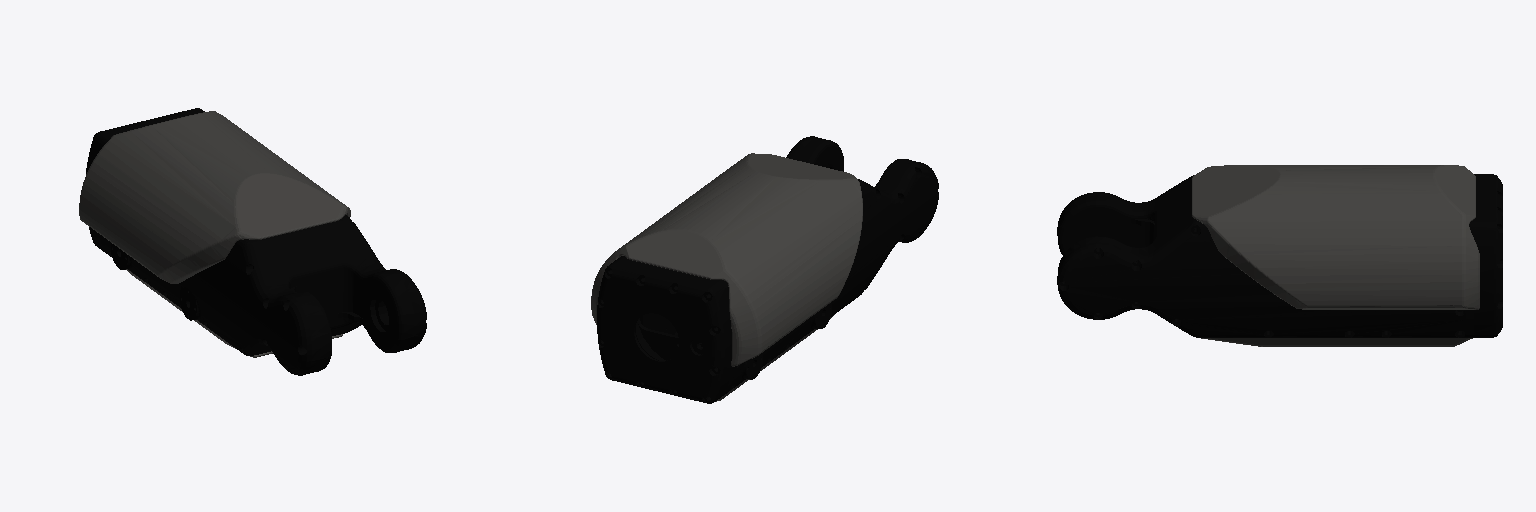
File: lowerArm_right.obj
The picture shows the model from 3 angles: view 1: azimuth 30°, elevation 25°; view 2: azimuth 150°, elevation 25°; view 3: azimuth 270°, elevation 25°; orthographic projection.
Visible parts, largest first — view 1: wrist_right_float1.001, wrist_right_wrist_right.000; view 2: wrist_right_float1.001, wrist_right_wrist_right.000; view 3: wrist_right_float1.001, wrist_right_wrist_right.000, wrist_right_float2.001.
Boxes of the visible parts, box(x1,y1,x2,y2) form: wrist_right_float1.001: box(79, 111, 350, 283); wrist_right_wrist_right.000: box(86, 108, 426, 375); wrist_right_float1.001: box(591, 153, 862, 366); wrist_right_wrist_right.000: box(597, 136, 938, 403); wrist_right_float1.001: box(1192, 165, 1479, 309); wrist_right_wrist_right.000: box(1057, 174, 1502, 337); wrist_right_float2.001: box(1201, 338, 1472, 346).
Size of the model in its own units: 0.124 by 0.1135 by 0.2808.